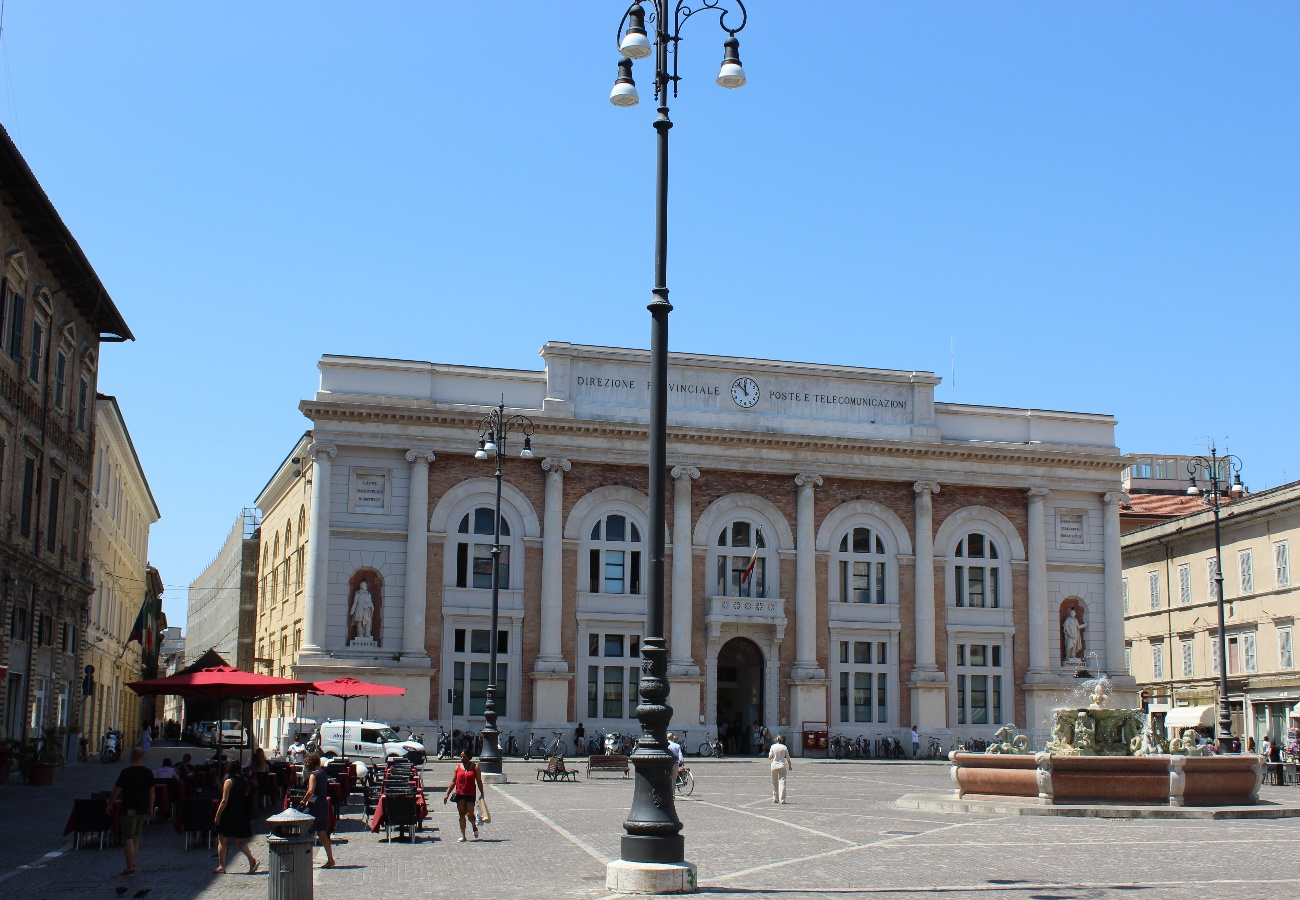Fontana Piazza del Popolo: (1049, 707, 1145, 753)
Palazzo delle Poste: (313, 344, 1122, 761)
